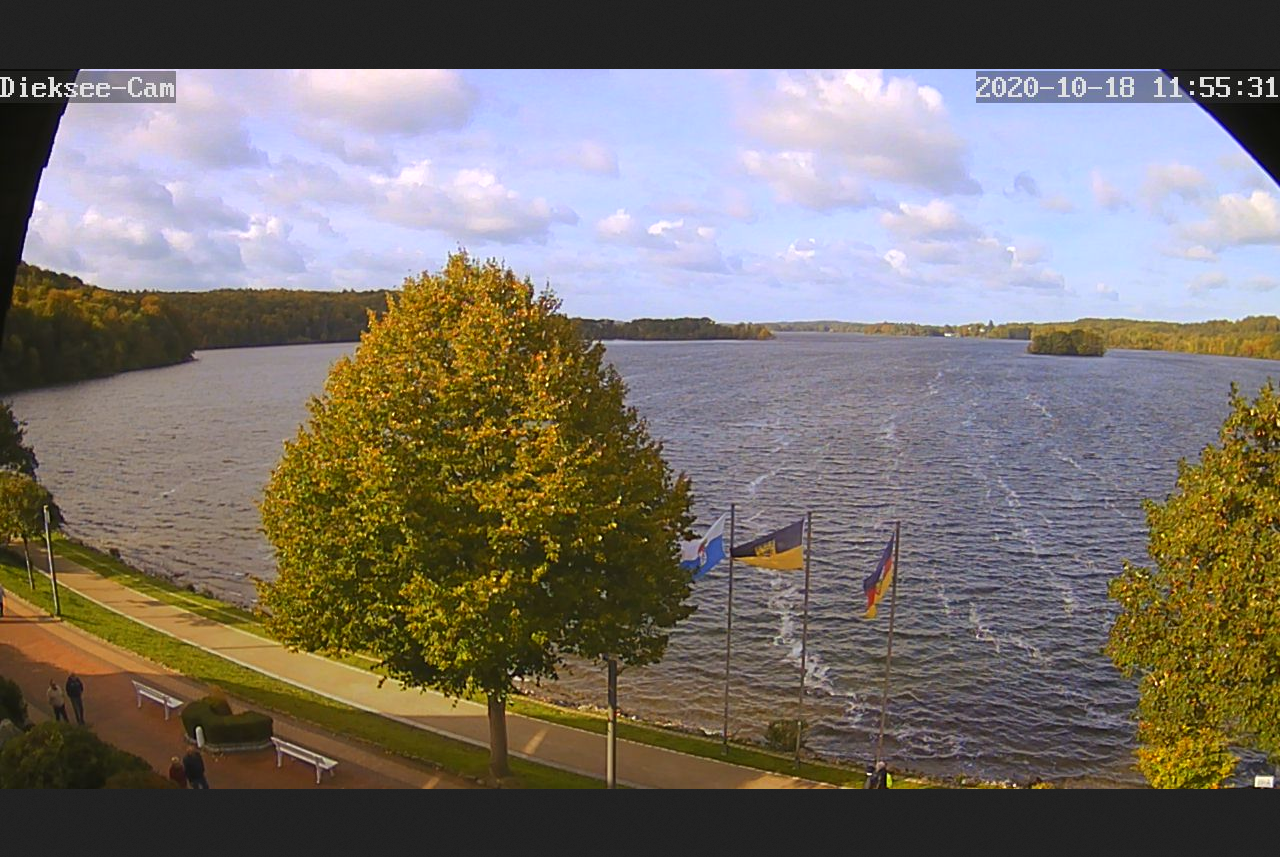maybe: (860, 536, 894, 614)
yes: (732, 522, 805, 576), (673, 515, 727, 576)
